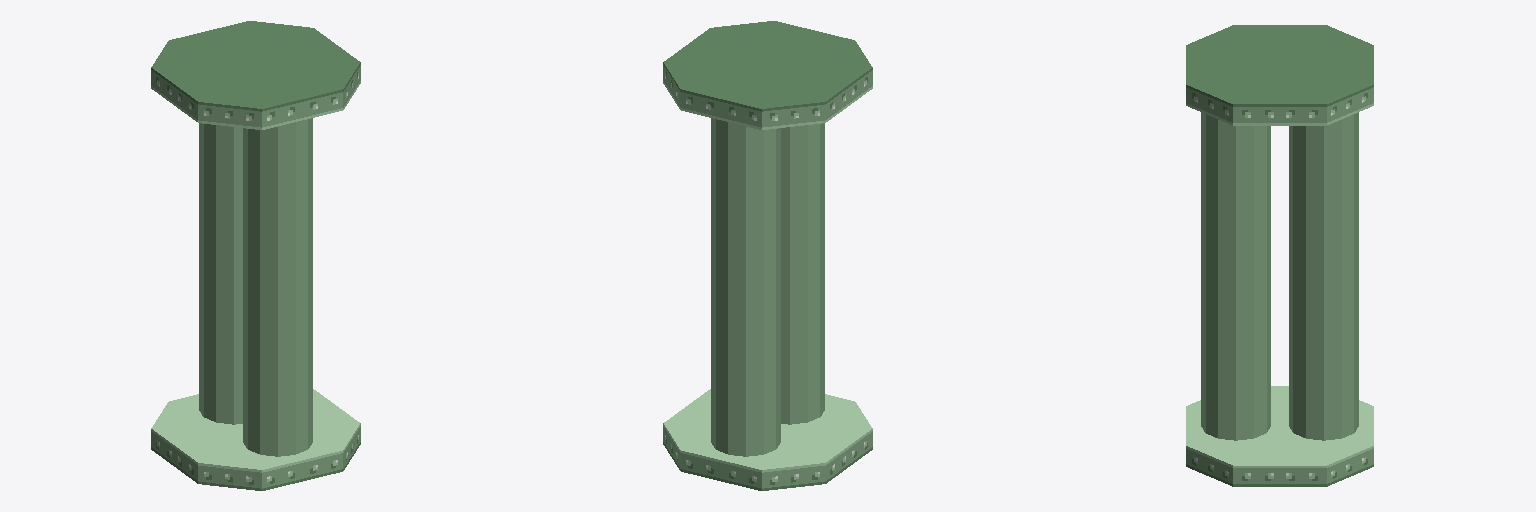
3 views of the same model, side by side, from view 1: azimuth 30°, elevation 25°; view 2: azimuth 150°, elevation 25°; view 3: azimuth 270°, elevation 25° (orthographic).
Parts seen in each view (by area): view 1: Plane; view 2: Plane; view 3: Plane.
Part boxes in pixels (x1,y1,x2,y2): Plane: (151, 21, 360, 490); Plane: (663, 21, 872, 490); Plane: (1186, 25, 1373, 486).
Size of the model in its own units: 4 by 9 by 4.
1 materials, 1 textured.